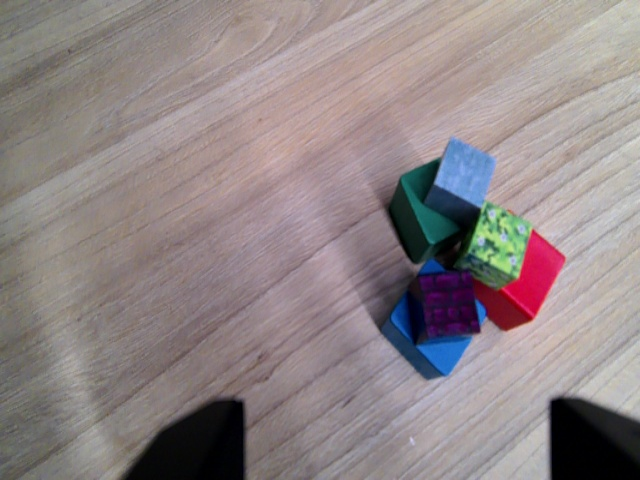brick: (411, 264, 483, 347)
grass: (468, 195, 532, 287)
stone: (432, 135, 486, 226)
